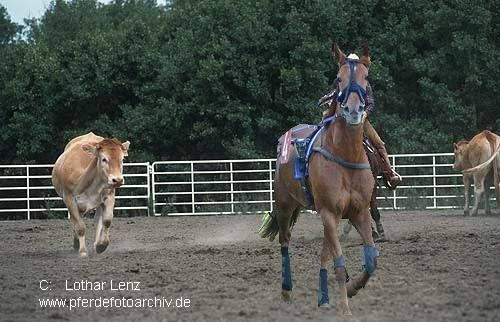tampered: (258, 44, 379, 315)
